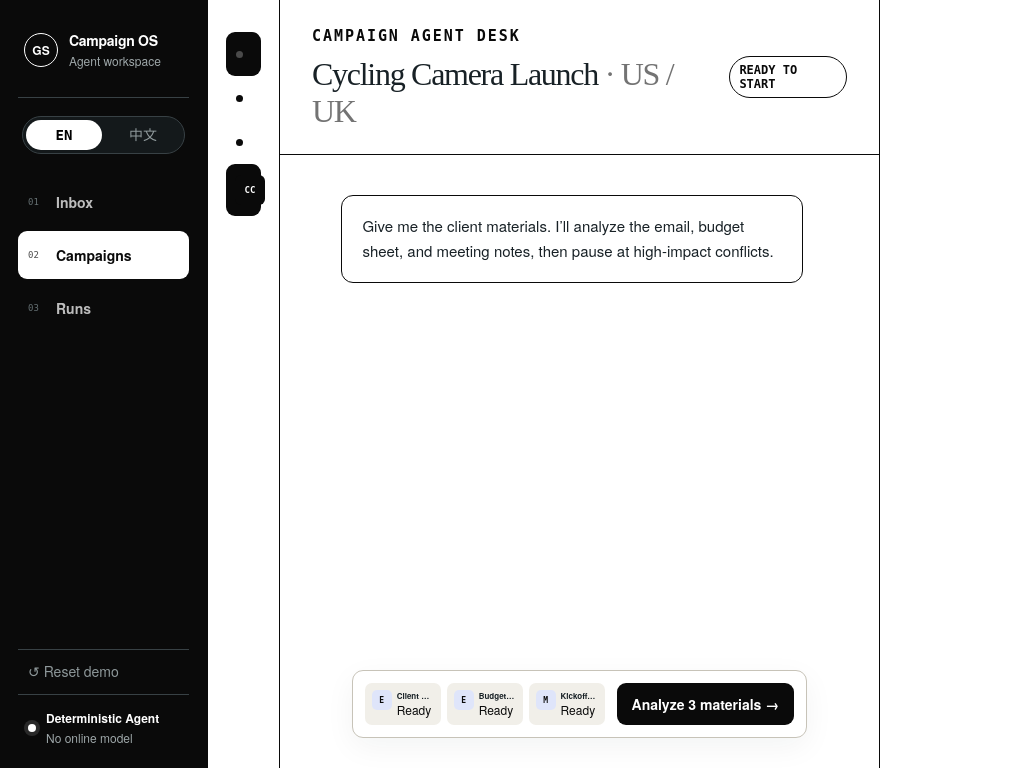
bilingual application shell › switches Agent-owned campaign content while preserving proper nouns
Step 1. Click the button with aria-label "切换到中文" → (143, 135), box [105,120,181,150]
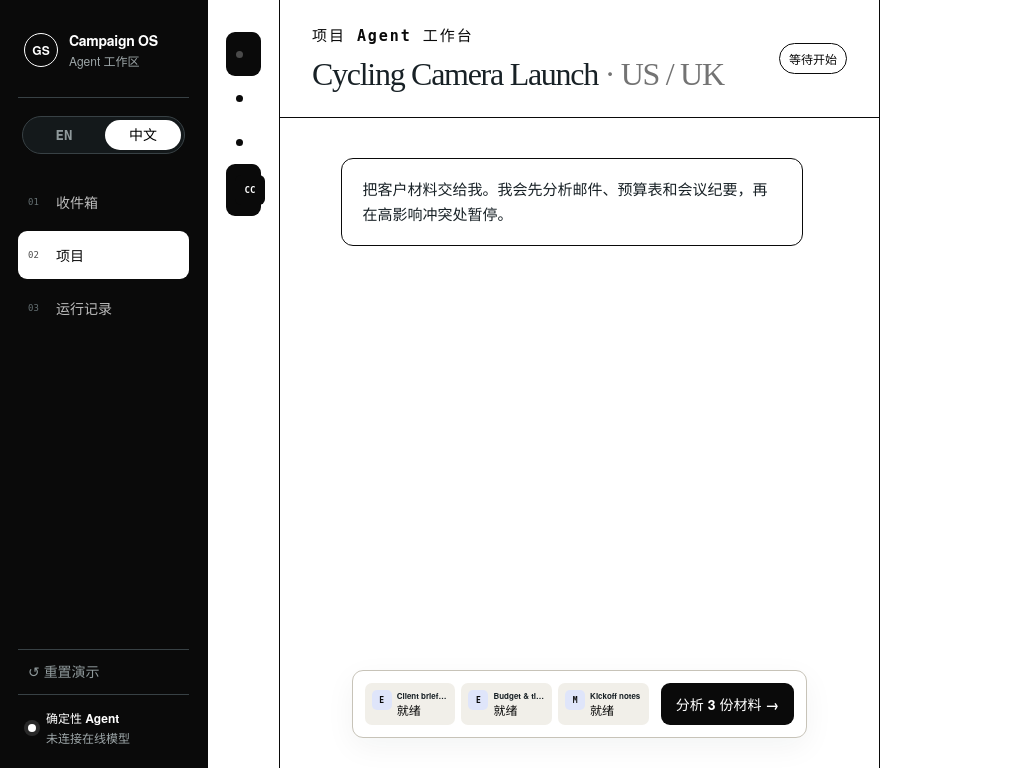
expect the text "Cycling Camera Launch" is shown: met, box [312,56,605,92]
expect the text "把客户材料交给我" is shown: met, box [362,178,767,224]
expect the text "分析 3 份材料" is shown: met, box [661,683,794,725]
